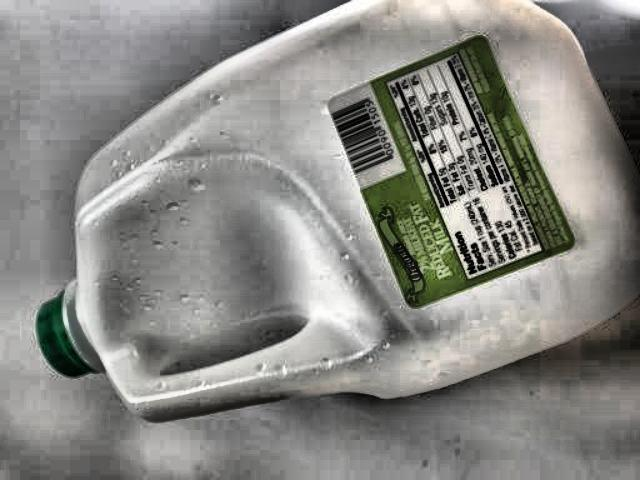Plastic: (32, 0, 640, 427)
